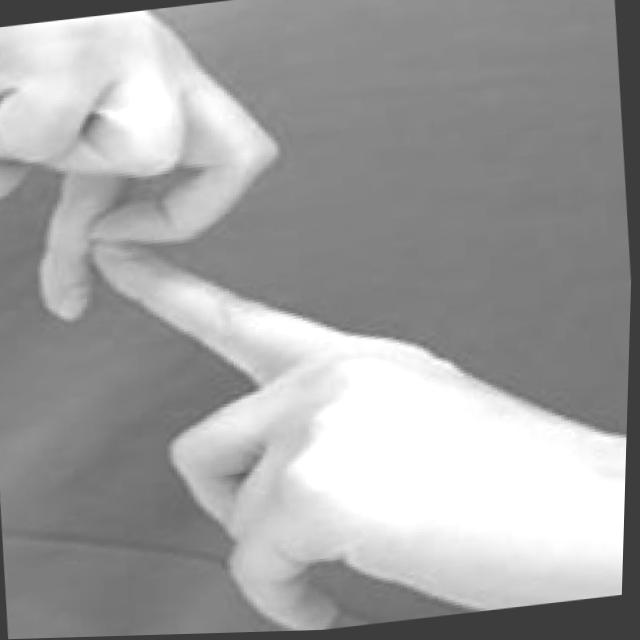R: (0, 0, 474, 640)
